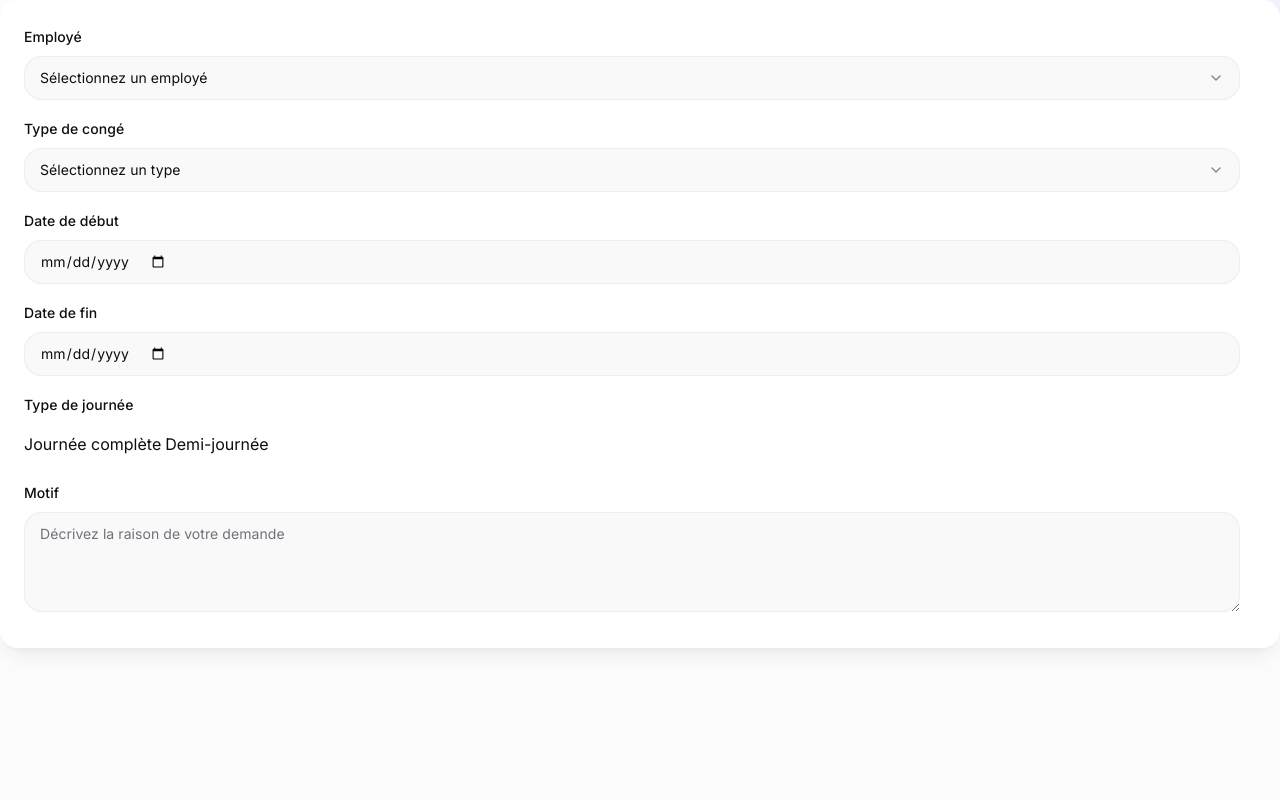
Scenario: LeaveRequestForm › shows period selector when half day is selected
This screenshot has width=1280, height=800.
Step 1. Click the radio button "Demi-journée" → (217, 444), box 165,424 -> 269,464
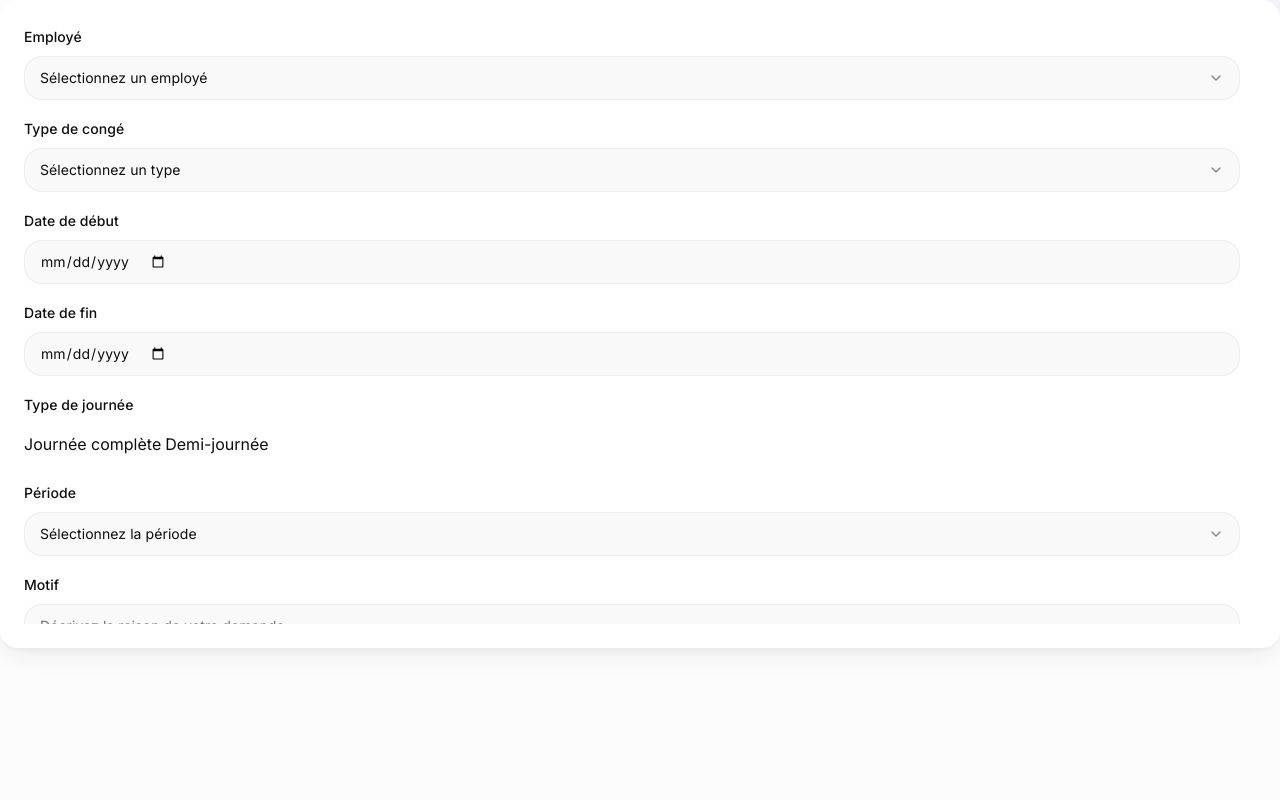
Result: the text "Période" is shown at 24,484 -> 76,501
